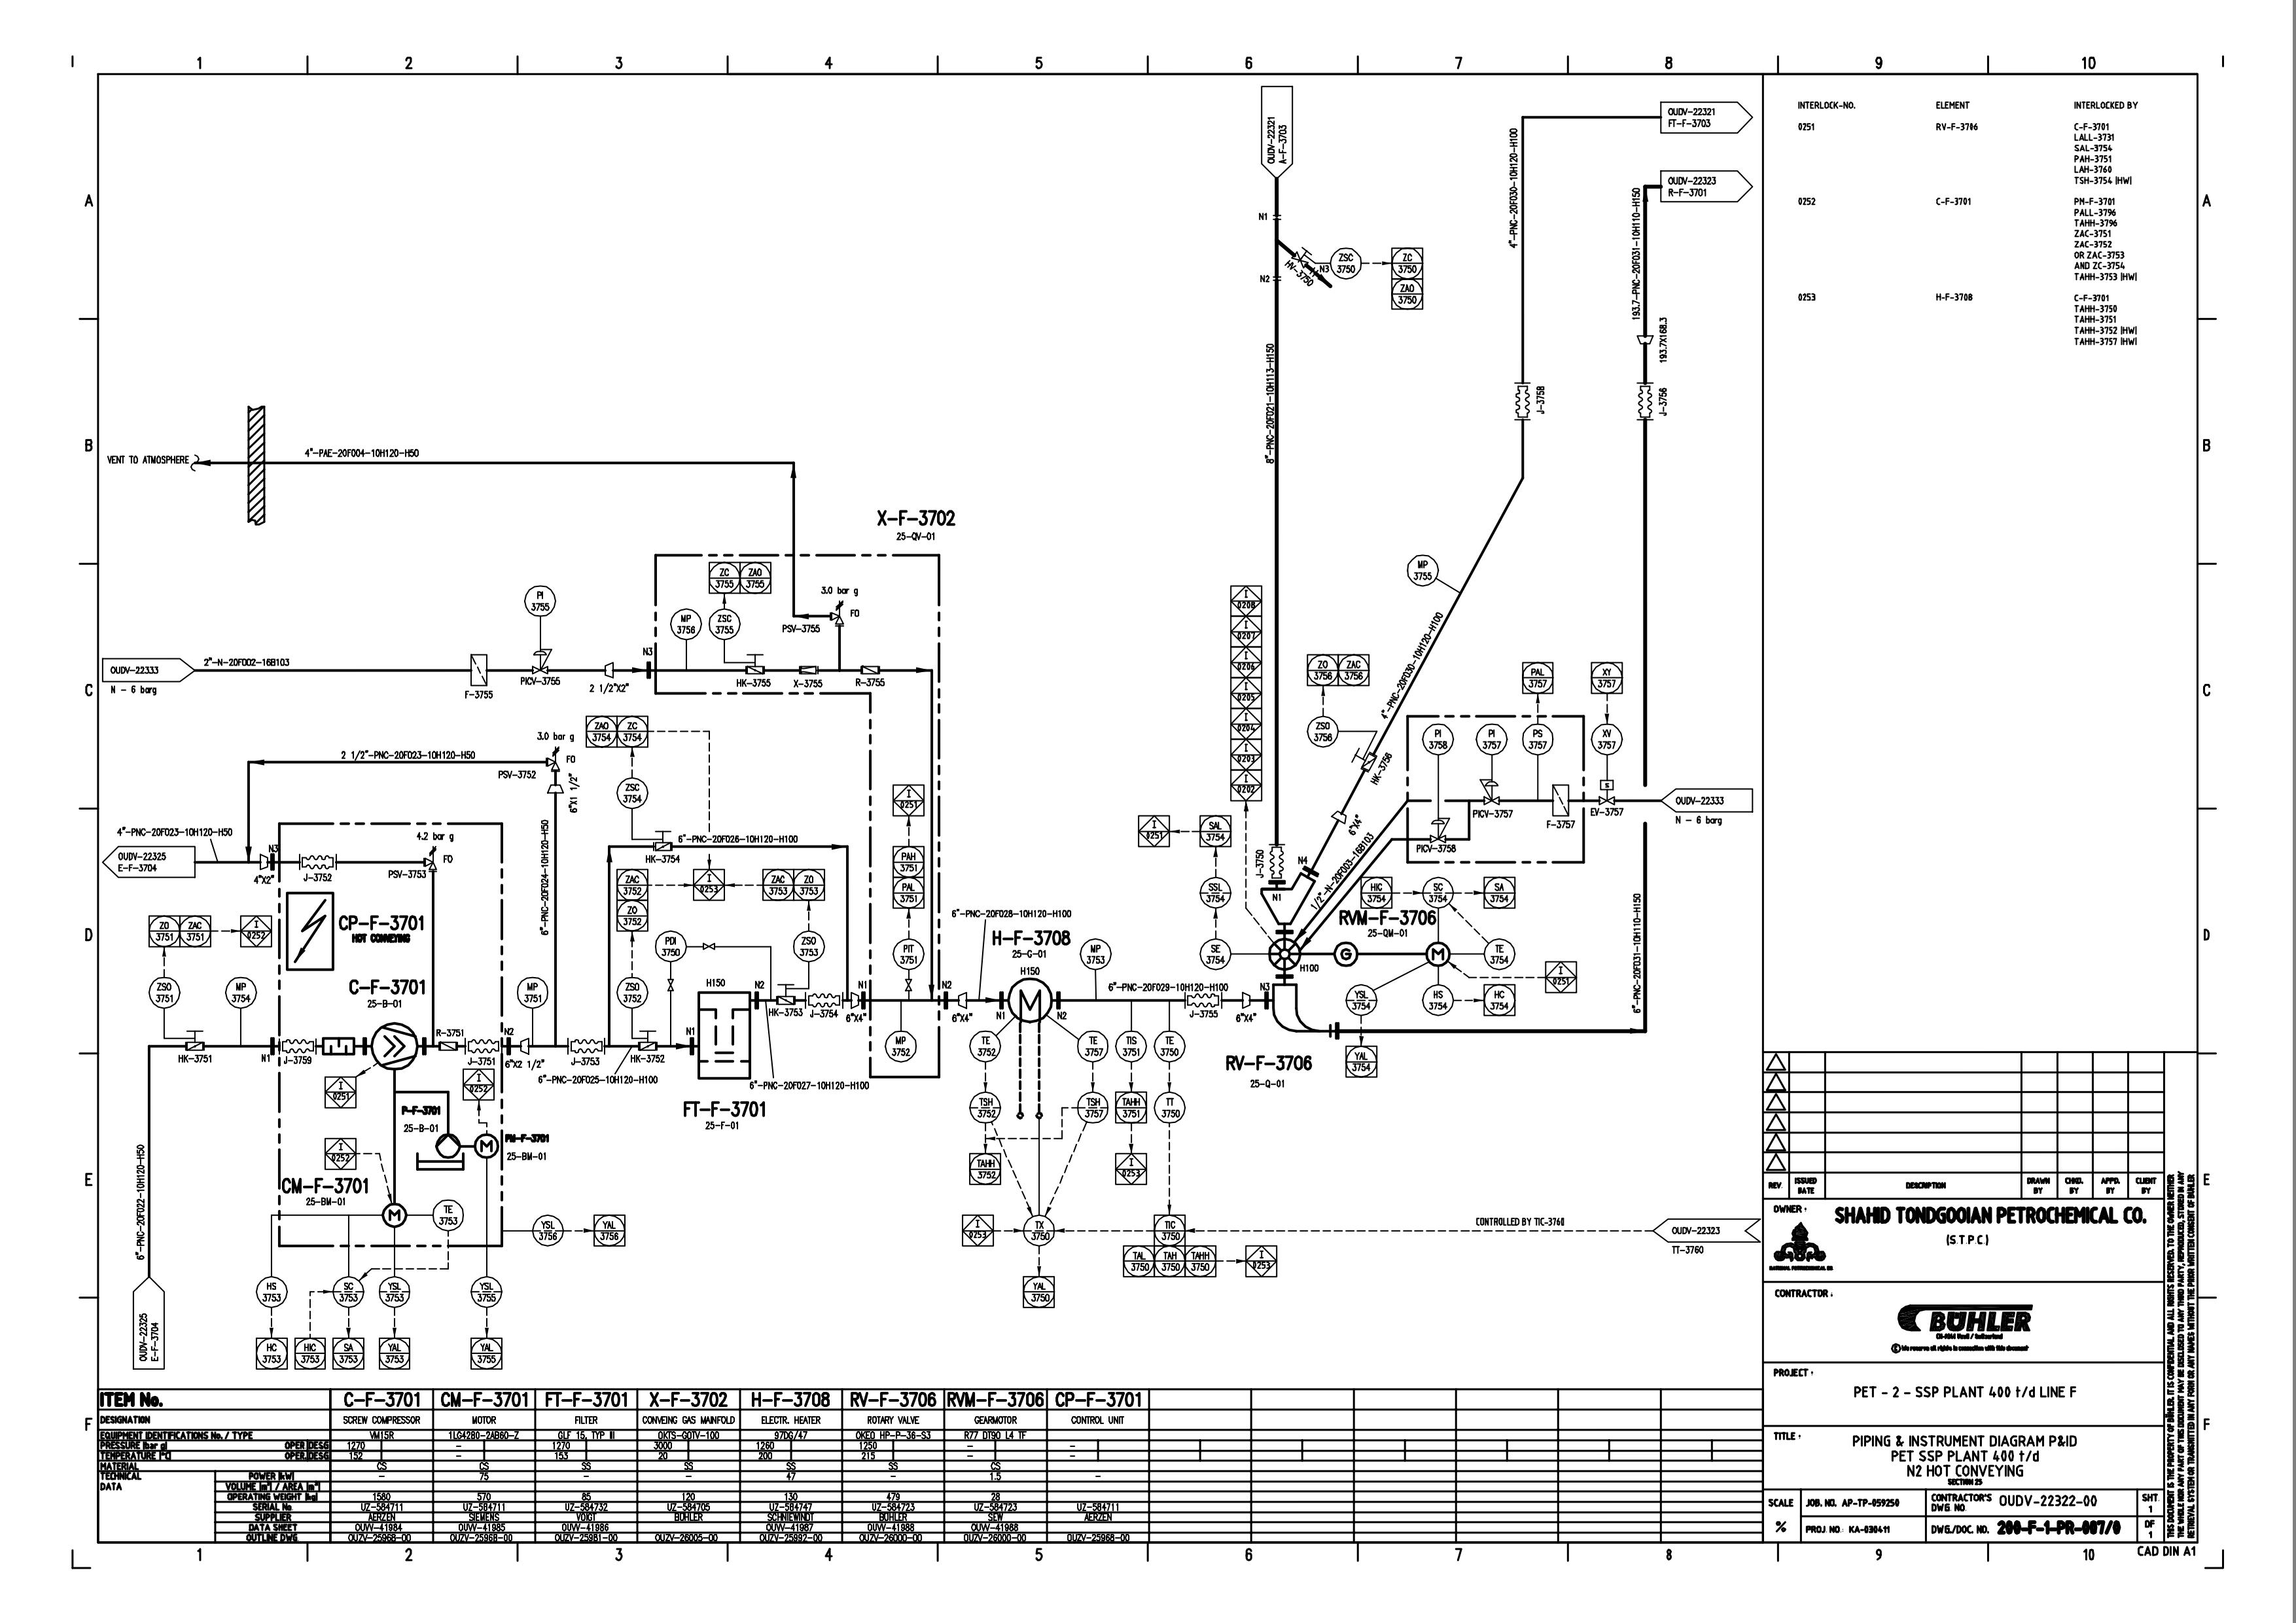BV: (1350, 747, 1377, 774), (743, 651, 769, 677), (774, 981, 798, 1007), (183, 1029, 207, 1053), (637, 1029, 659, 1052), (652, 829, 673, 852)
C: (370, 1019, 419, 1072)
CV2: (857, 663, 883, 676), (436, 1040, 460, 1053)
EJ: (1511, 378, 1536, 422), (1634, 381, 1657, 422), (1266, 842, 1288, 883), (566, 1037, 607, 1056), (298, 853, 338, 872), (463, 1037, 503, 1056), (804, 991, 845, 1010), (1182, 991, 1224, 1010), (277, 1038, 317, 1057)
F2: (467, 651, 491, 688), (1550, 783, 1571, 819)
FT1: (696, 988, 753, 1085)
GV: (667, 977, 677, 993), (904, 977, 914, 993), (701, 942, 716, 952)
HE: (1008, 976, 1052, 1023)
HV: (1290, 243, 1313, 268)
LM: (797, 663, 819, 676)
M: (470, 1130, 499, 1161), (380, 1201, 409, 1231)
P: (433, 1131, 461, 1159)
PCV: (529, 646, 554, 677), (1477, 777, 1503, 805), (1426, 816, 1450, 844)
RPV: (828, 598, 847, 629), (545, 745, 563, 774), (422, 845, 439, 874)
RV2: (1258, 865, 1326, 1041)
RVM: (1332, 938, 1450, 967)
SP: (1330, 810, 1347, 826), (603, 660, 616, 680), (518, 1037, 531, 1056), (957, 991, 970, 1010), (546, 782, 565, 794), (1634, 334, 1655, 346), (1240, 991, 1251, 1010), (258, 851, 268, 872), (849, 991, 859, 1010)
SV: (1597, 777, 1617, 806)
